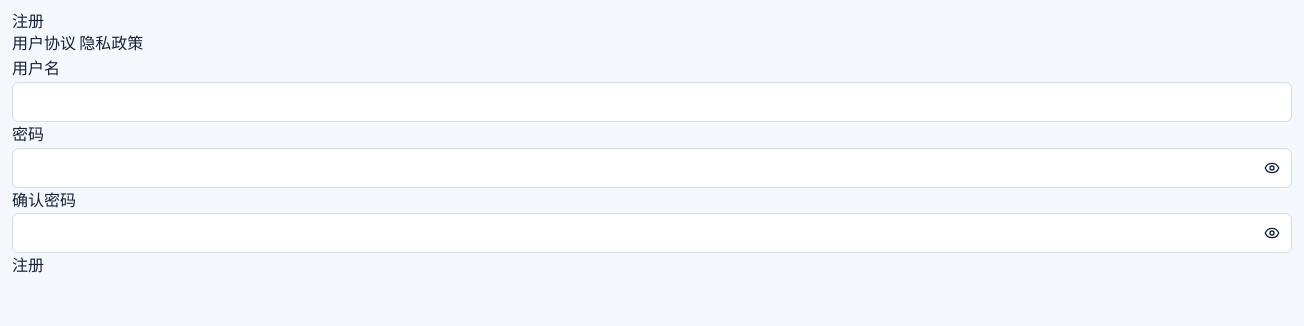
Test: RegisterPage › 策略错误只显示通用请求失败文案
Type "nelson" into the field labelled "用户名". click: (652, 102)
box: x1=12 y1=82 x2=1292 y2=122
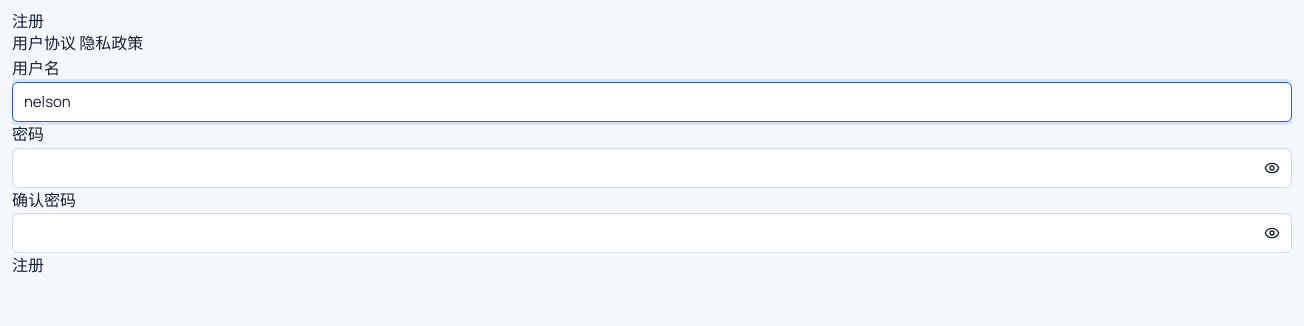
Type "password-1" into the password field labelled "密码". click: (652, 168)
box: x1=12 y1=148 x2=1292 y2=188
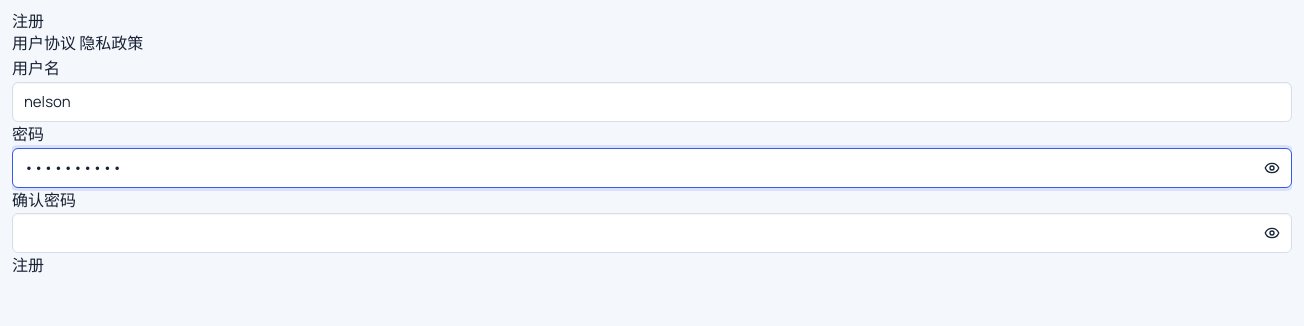
Type "password-1" into the password field labelled "确认密码". click: (652, 233)
box: x1=12 y1=213 x2=1292 y2=253
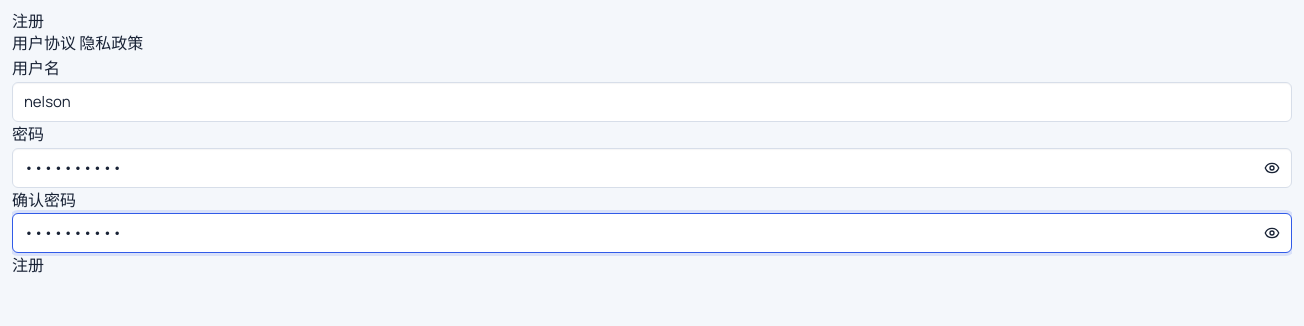
Click the button "注册". click: (28, 266)
box: x1=12 y1=253 x2=44 y2=279
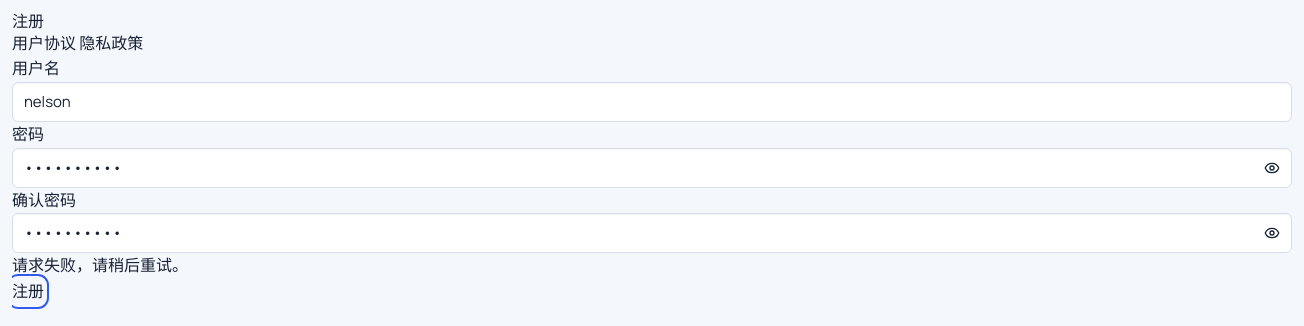
Now the message reads "请求失败，请稍后重试。", box x1=12 y1=254 x2=188 y2=276
